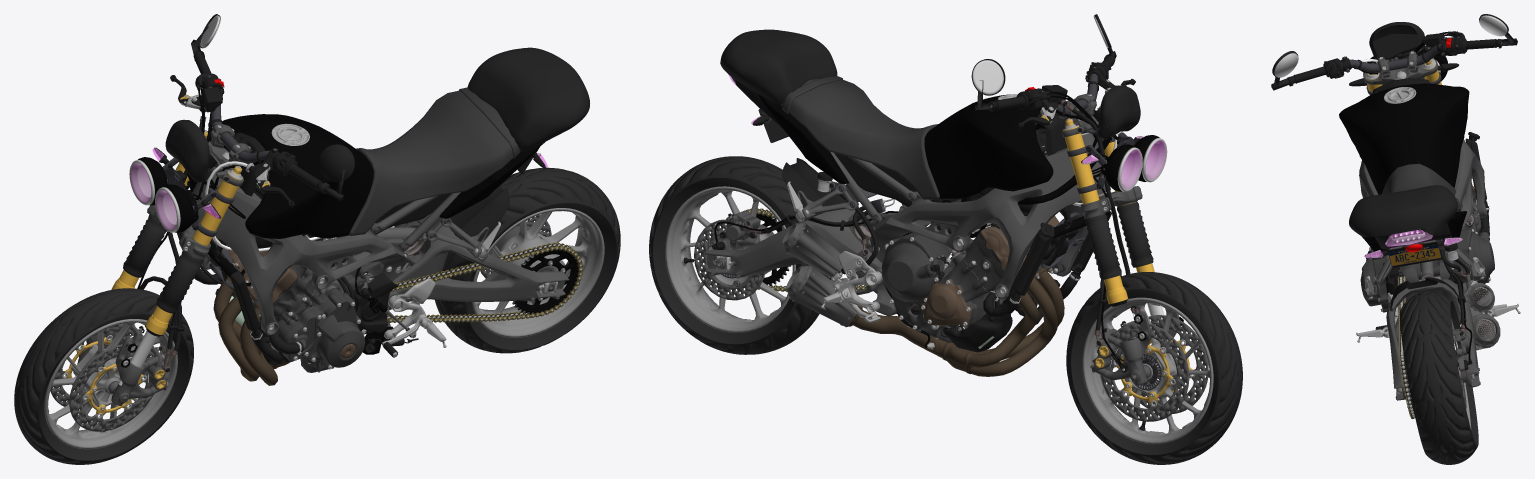
The model's file is moto1.glb.
3 renders of one model, left to right at view 1: azimuth 30°, elevation 25°; view 2: azimuth 150°, elevation 25°; view 3: azimuth 270°, elevation 25°, orthographic. The views are drawn at different scales.
Visible parts, largest first — view 1: MOTO; view 2: MOTO; view 3: MOTO.
Boxes of the visible parts, x1,y1,x2,y2 form: MOTO: [14, 14, 620, 464]; MOTO: [649, 14, 1242, 464]; MOTO: [1271, 14, 1520, 464].
Size of the model in its own units: 2.04 by 1.28 by 0.8628.
Materials: 47 (4 with a texture image).
